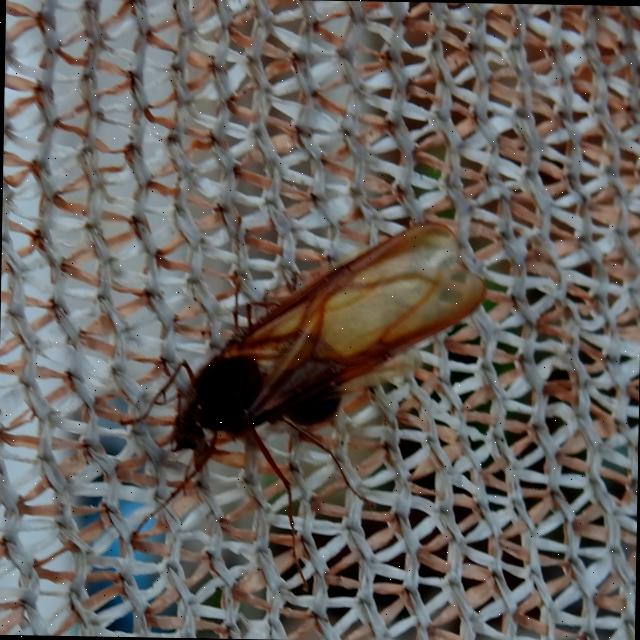Alive-Male-Alate: (116, 200, 488, 596)
